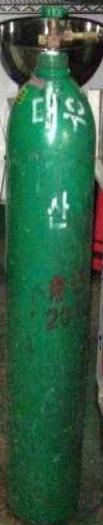cylinder: (1, 1, 103, 525)
